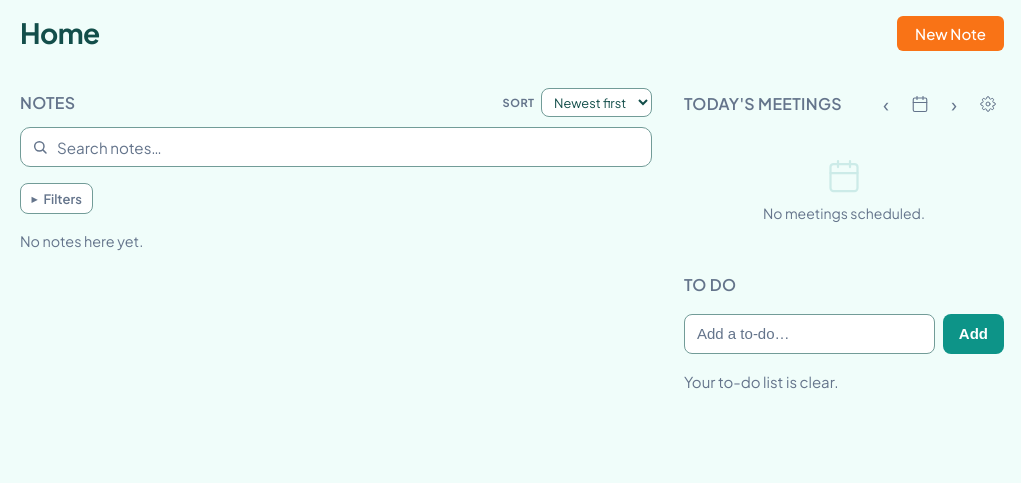
Test: ListView — home default window + date-range filter (40-A) › hides future-dated notes in the default window but the All preset reveals them
Expected: the text "Future note" is not shown
Click the button "▸ Filters": (57, 199) x1=20 y1=183 x2=93 y2=214
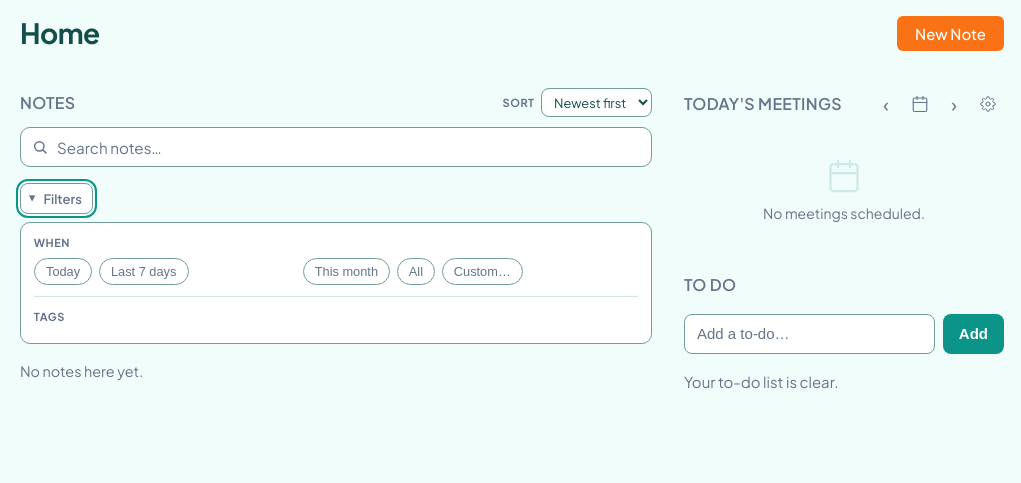
Click the button with test id "range-preset-all": (416, 271) x1=397 y1=258 x2=435 y2=285
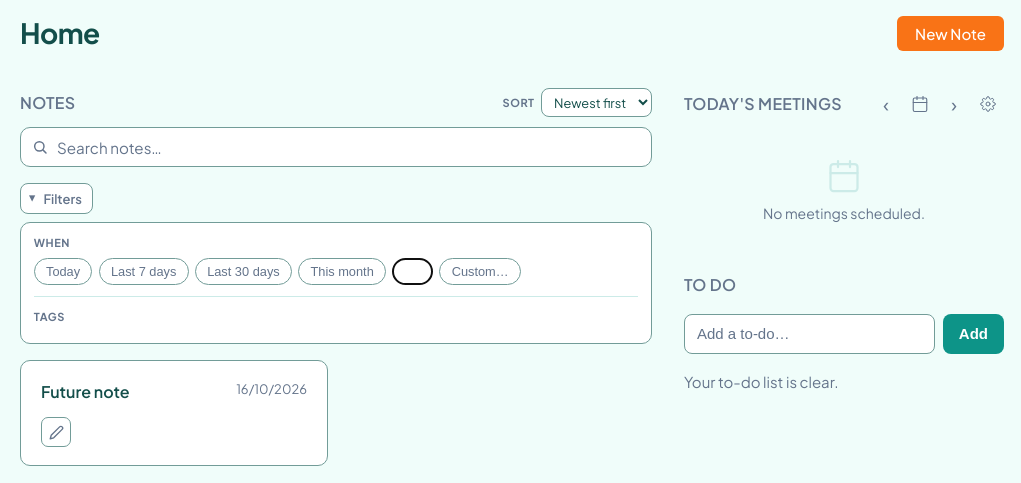
Result: the heading "Future note" is shown at x1=41 y1=381 x2=130 y2=402
